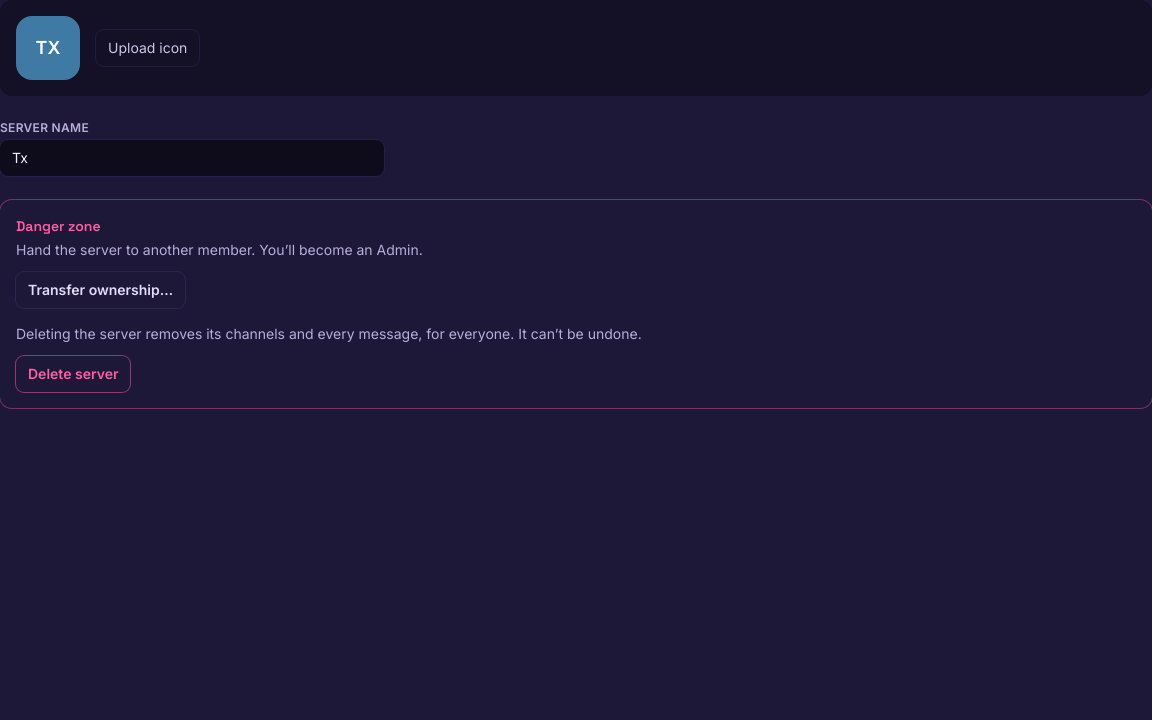
Test: Transfer needs a member and the exact server name; then it hands over and reports back
Click the button "Transfer ownership…".
click(101, 290)  # box [16,272,185,308]
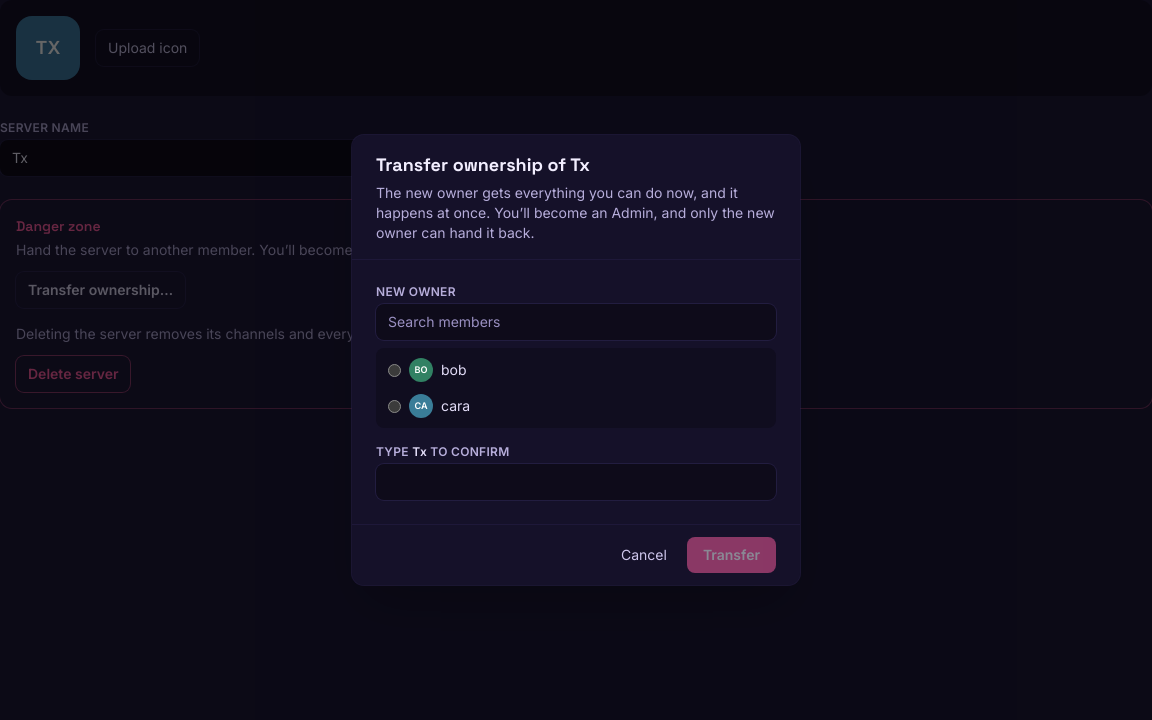
Expected: the button "Transfer" is disabled, [687,537,776,573]
Click the radio button labelled "bob".
click(394, 370)  # box [388,364,401,376]
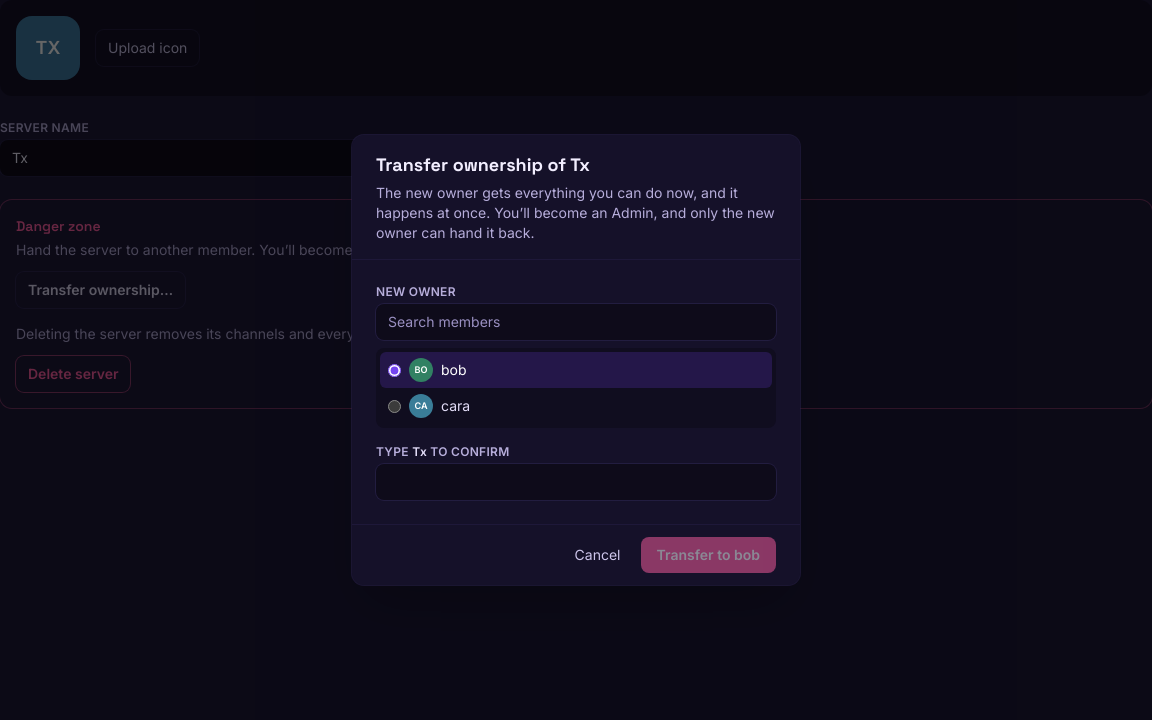
Expected: the button "Transfer to bob" is shown, [640,537,776,573]
Type "tx" into the field labelled "Type Tx to confirm".
click(576, 482); type("tx")  # box [376,464,776,500]
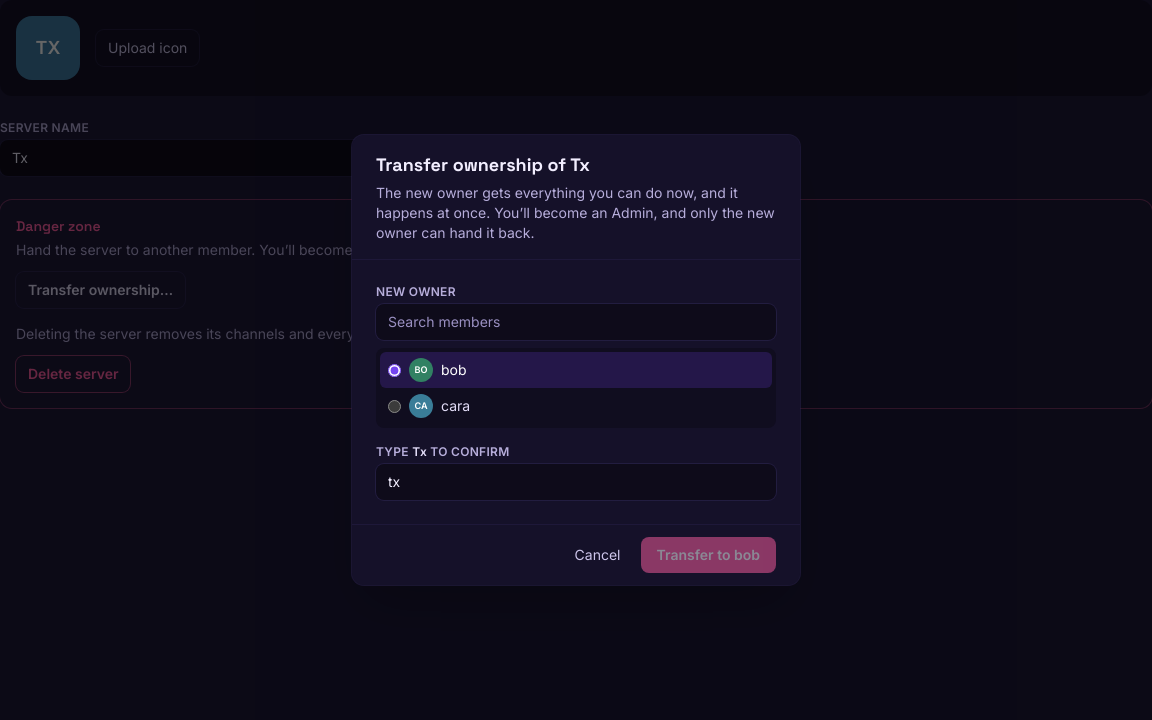
Expected: the button "Transfer to bob" is disabled, [640,537,776,573]
Replace the text in the field labelled "Type Tx to confirm" with "Tx" at [576, 482], box [376,464,776,500]
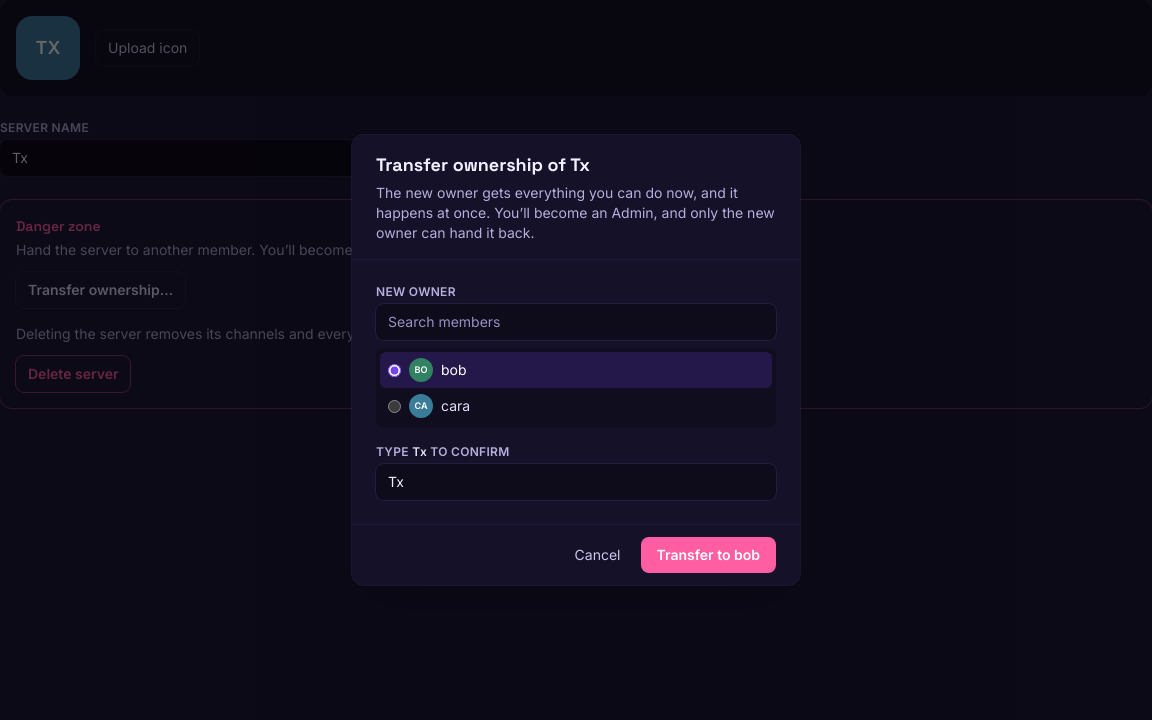
Expected: the button "Transfer to bob" is enabled
Click the button "Transfer to bob".
click(708, 555)  # box [640,537,776,573]
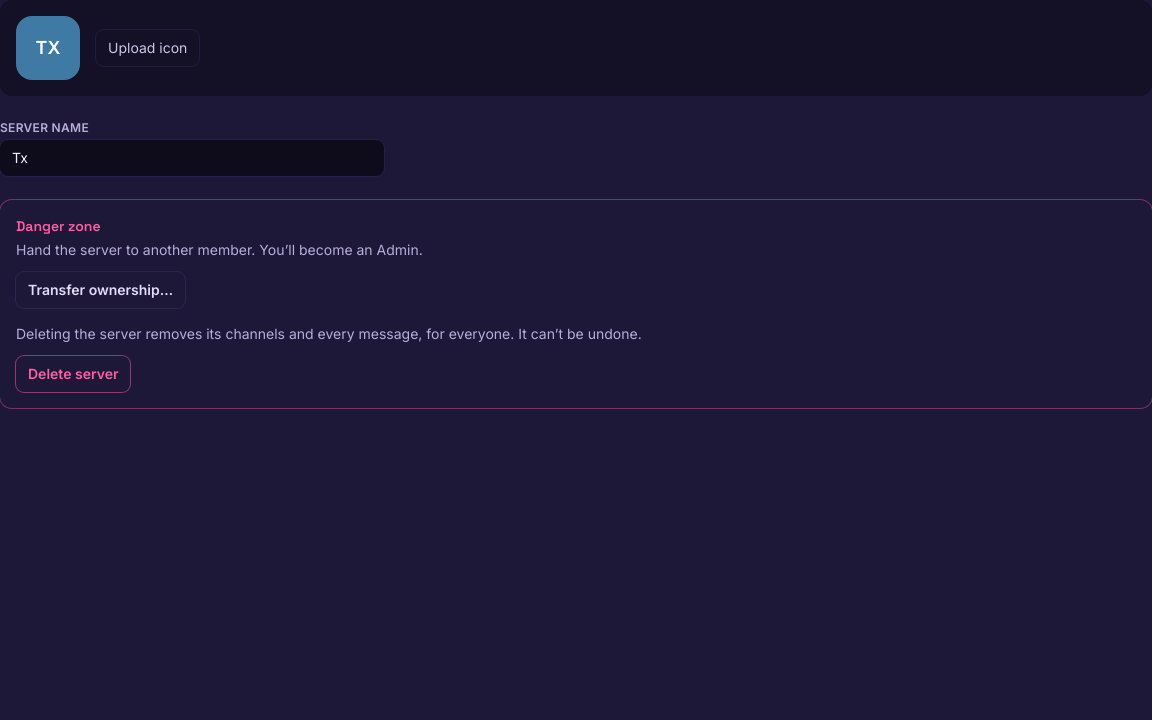
Expected: the heading "Transfer ownership of Tx" is gone
